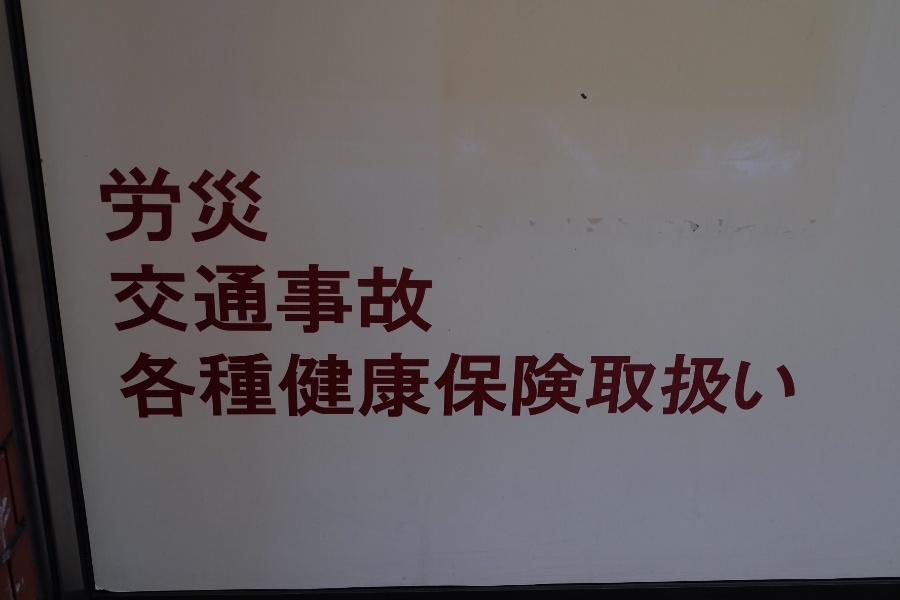text: (113, 261, 128, 340), (129, 261, 144, 340), (145, 261, 160, 340), (161, 261, 176, 340), (177, 261, 192, 340), (193, 261, 208, 340), (209, 261, 224, 340), (225, 261, 240, 340), (241, 261, 256, 340), (257, 261, 272, 340), (273, 261, 288, 340), (289, 261, 304, 340), (305, 261, 320, 340), (321, 261, 336, 340), (337, 261, 352, 340), (353, 261, 368, 340), (369, 261, 384, 340), (385, 261, 400, 340), (401, 261, 416, 340), (417, 261, 432, 340), (113, 167, 128, 245), (129, 167, 144, 245), (145, 167, 160, 245), (161, 167, 176, 245), (177, 167, 192, 245), (193, 167, 208, 245), (209, 167, 224, 245), (225, 167, 240, 245), (241, 167, 256, 245), (129, 353, 144, 424), (145, 353, 160, 424), (161, 353, 176, 424), (177, 353, 192, 424), (193, 353, 208, 424), (209, 353, 224, 424), (225, 353, 240, 424), (241, 353, 256, 424), (257, 353, 272, 424), (273, 353, 288, 424), (289, 353, 304, 424), (305, 353, 320, 424), (321, 353, 336, 424), (337, 353, 352, 424), (353, 353, 368, 424), (369, 353, 384, 424), (385, 353, 400, 424), (401, 353, 416, 424), (417, 353, 432, 424), (433, 353, 448, 424), (449, 353, 464, 424), (465, 353, 480, 424), (481, 353, 496, 424), (497, 353, 512, 424), (513, 353, 528, 424), (529, 353, 544, 424), (545, 353, 560, 424), (561, 353, 576, 424), (577, 353, 592, 424), (593, 353, 608, 424), (609, 353, 624, 424), (625, 353, 640, 424), (641, 353, 656, 424), (657, 353, 672, 424), (673, 353, 688, 424), (689, 353, 704, 424), (705, 353, 720, 424), (721, 353, 736, 424), (737, 353, 752, 424), (753, 353, 768, 424), (769, 353, 784, 424), (785, 353, 800, 424), (99, 167, 112, 245), (257, 167, 268, 245), (119, 353, 128, 424), (106, 261, 112, 340), (433, 261, 435, 340)
